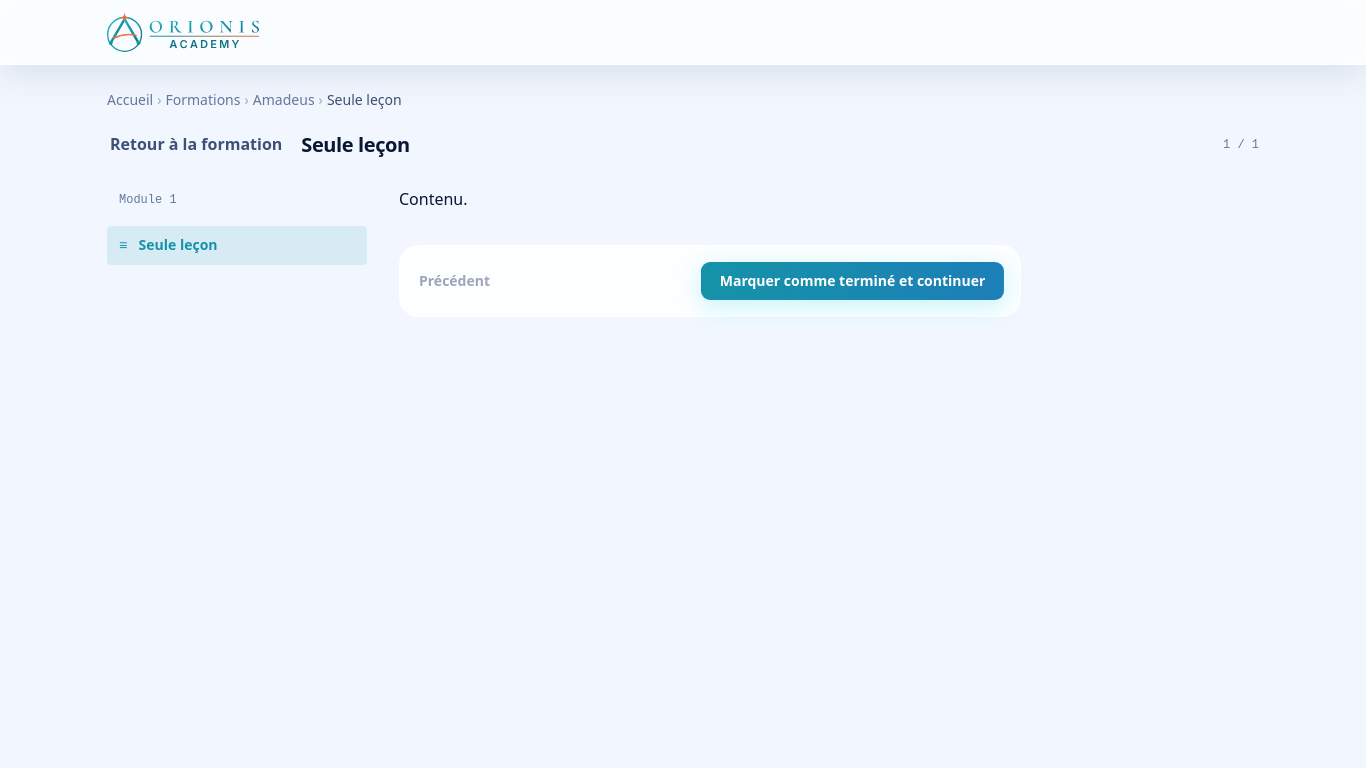
Test: LessonPlayerPage content renderers › disables Précédent when there is no neighbour, and shows the end-of-module screen on completion
The image size is (1366, 768).
Expected: the button "Précédent" is disabled, [416, 266, 493, 295]
Expected: the text "Module 1" is shown, [119, 193, 177, 207]
Click the button "Marquer comme terminé et continuer": {"x": 852, "y": 281} [701, 262, 1004, 300]
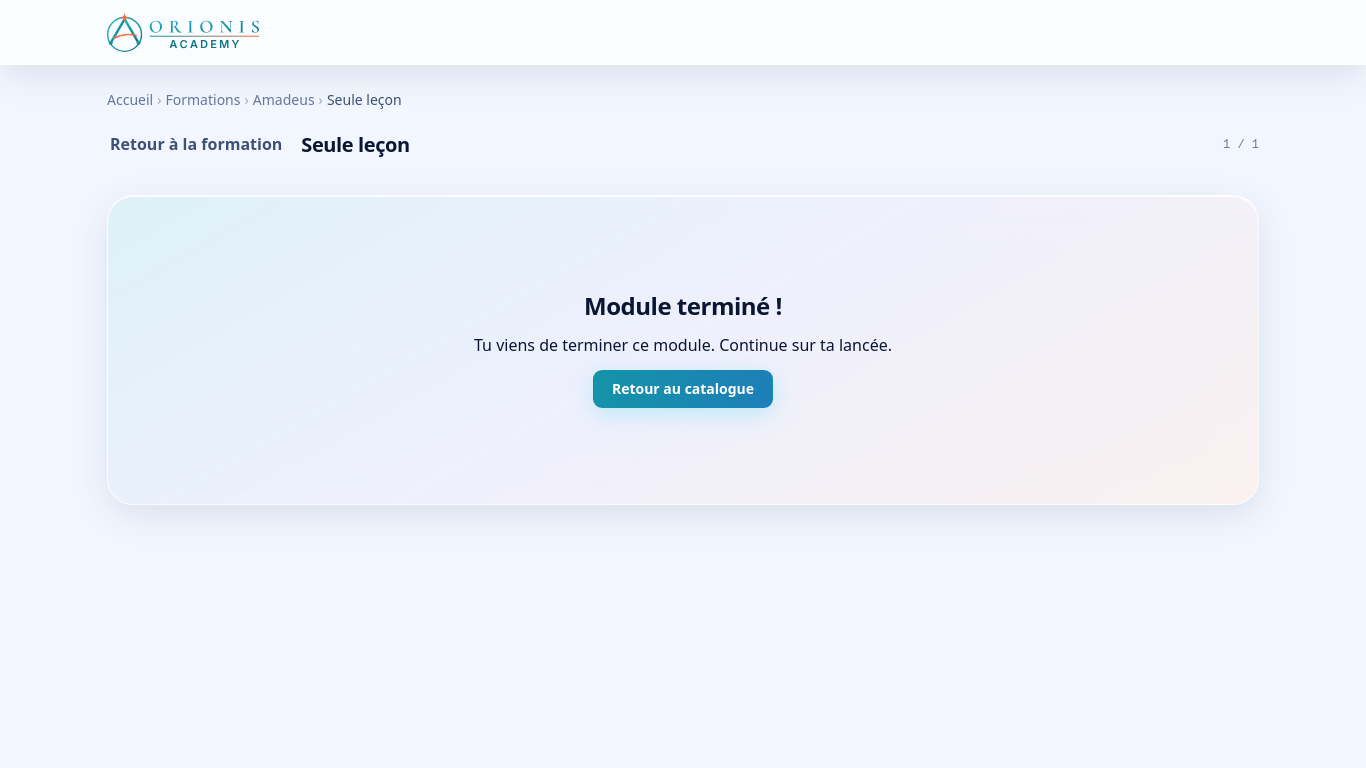
Now the heading "Module terminé !" is shown, box [584, 289, 782, 322]
Now the link "Retour au catalogue" is shown, box [593, 370, 773, 408]
